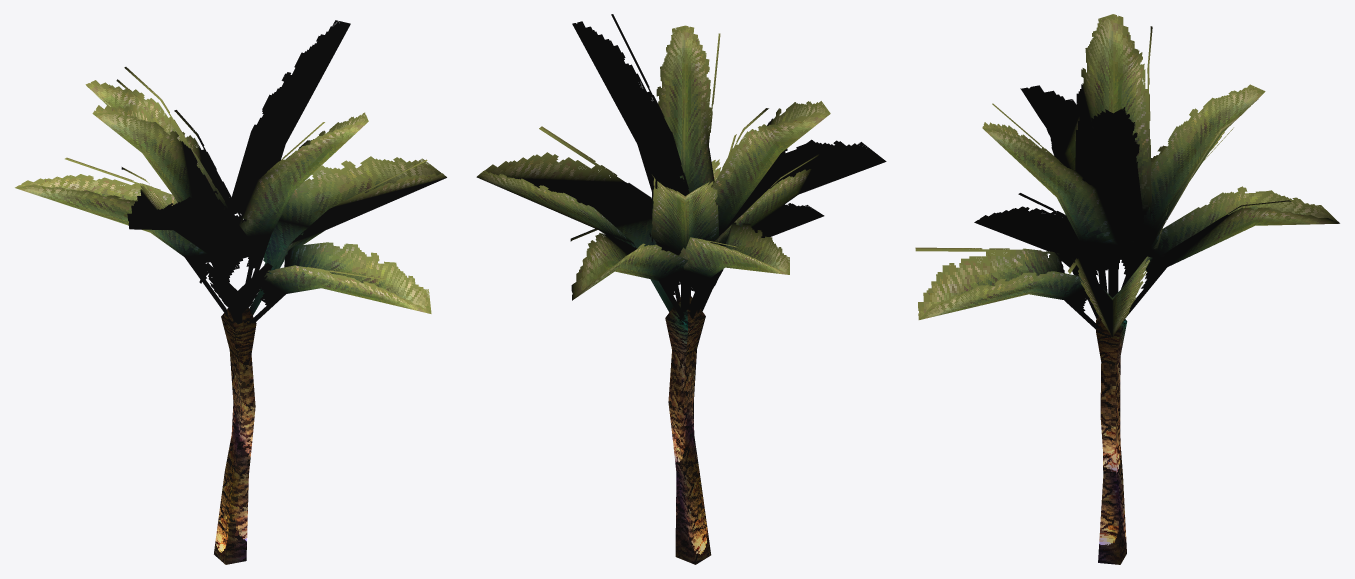
File: stage-lasv-p3-1304.glb
The picture shows the model from 3 angles, left to right: view 1: azimuth 30°, elevation 25°; view 2: azimuth 150°, elevation 25°; view 3: azimuth 270°, elevation 25°; orthographic projection.
Size of the model in its own units: 4.72 by 6.15 by 4.66.
2 materials, 2 textured.
